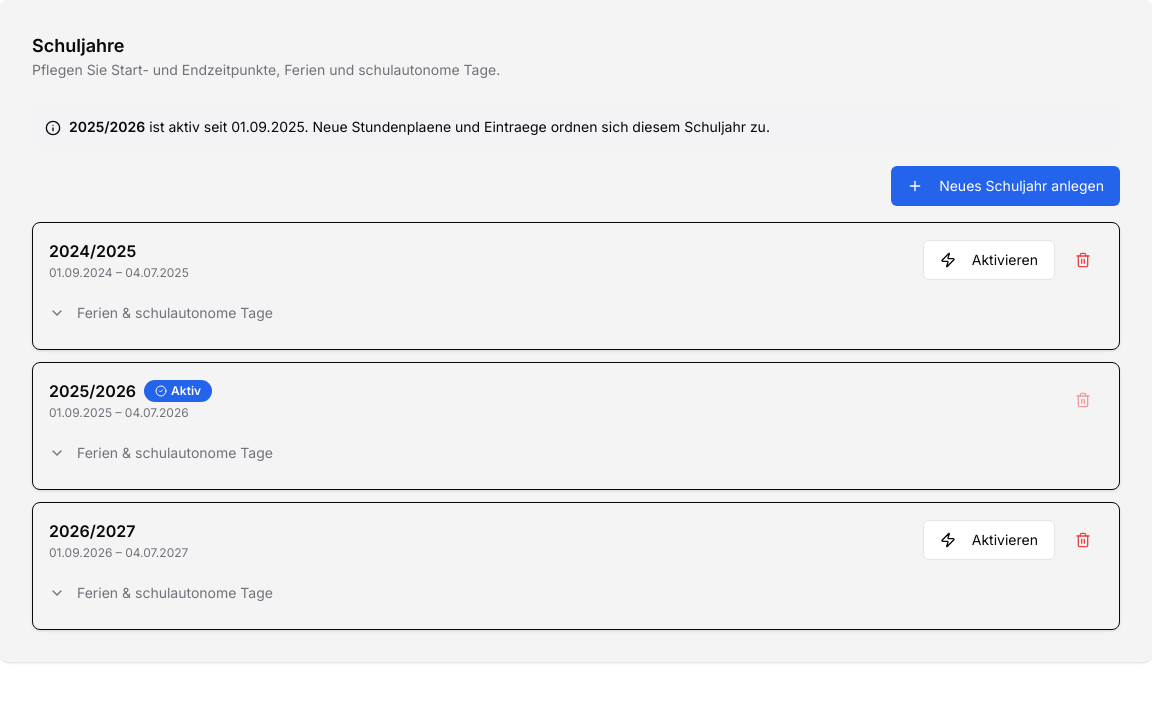
Scenario: SchoolYearsTab (Plan 10-05 Task 1) › clicking "Aktivieren" on a non-active year opens ActivateSchoolYearDialog
Click the button with aria-label "Schuljahr 2024/2025 aktivieren".
click(989, 260)  # box 923,240 -> 1055,280
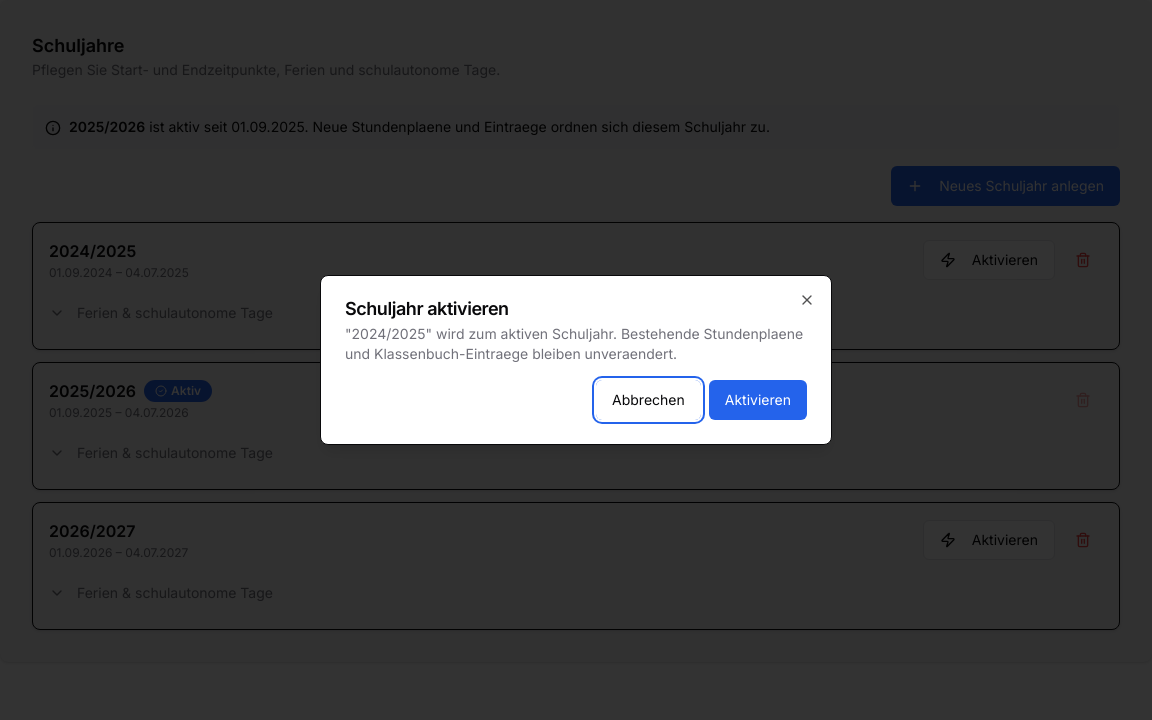
Now the heading "Schuljahr aktivieren" is shown, box 345,298 -> 509,319
Now the text "\"2024/2025\" wird zum aktiven Schuljahr" is shown, box 345,324 -> 807,364
